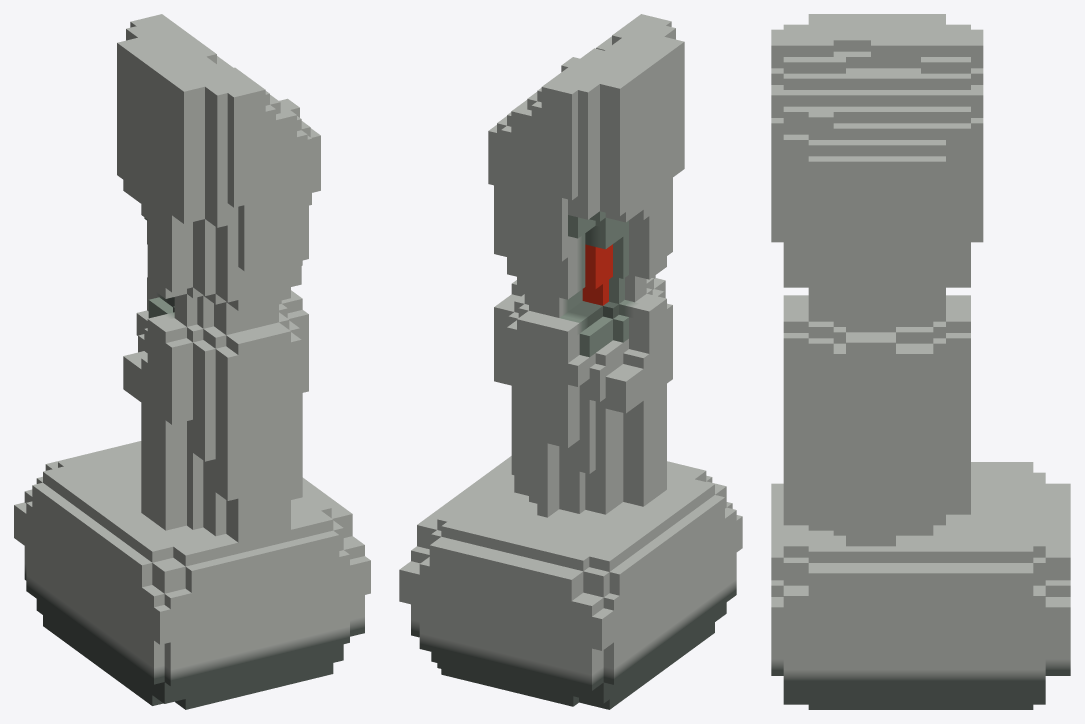
File: Enemy-0-PolarRight.fbx
3 renders of one model, left to right at view 1: azimuth 30°, elevation 25°; view 2: azimuth 150°, elevation 25°; view 3: azimuth 270°, elevation 25°, orthographic. The views are drawn at different scales.
Visible parts, largest first — view 1: PolarRight; view 2: PolarRight; view 3: PolarRight.
Part boxes in pixels (box(x1,y1,x2,y2)): PolarRight: box(14, 14, 370, 709); PolarRight: box(399, 14, 742, 709); PolarRight: box(771, 14, 1070, 709).
Size of the model in its own units: 20 by 55 by 24.
1 material, 1 textured.
